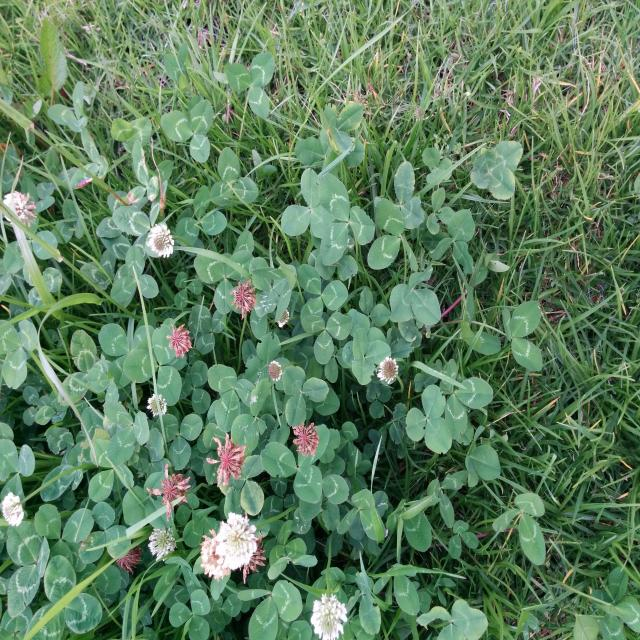Four Leaf Clover: (470, 140, 523, 200)
